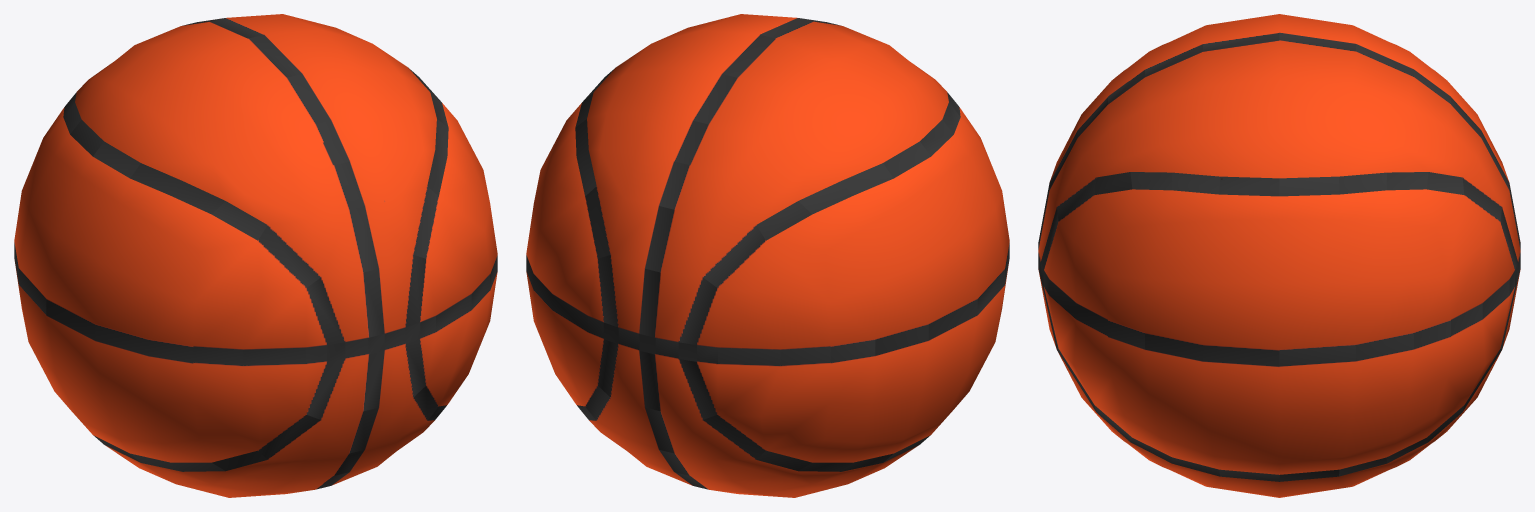
File: TNP0110004.FBX
3 renders of one model, left to right at view 1: azimuth 30°, elevation 25°; view 2: azimuth 150°, elevation 25°; view 3: azimuth 270°, elevation 25°, orthographic.
Visible parts, largest first — view 1: smTNP0110004; view 2: smTNP0110004; view 3: smTNP0110004.
Part boxes in pixels (bbox=[...]): smTNP0110004: bbox=[14, 14, 497, 497]; smTNP0110004: bbox=[526, 14, 1009, 497]; smTNP0110004: bbox=[1038, 14, 1520, 497].
Size of the model in its own units: 32.59 by 32.59 by 32.48.
Materials: 1 (1 with a texture image).
